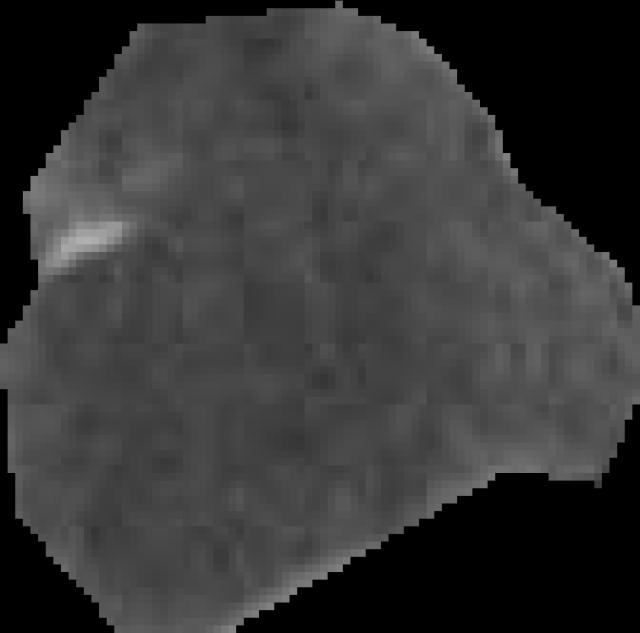tumor_moderate_chance: (0, 1, 640, 633)
